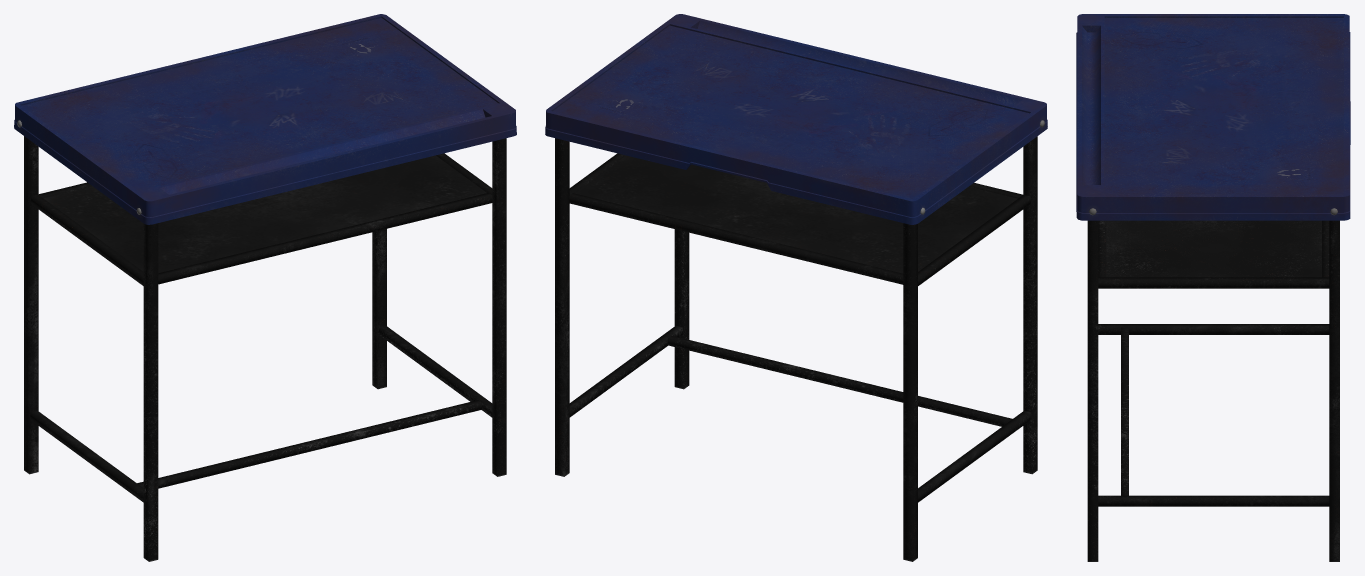
Rendered from TableSchool.fbx.
The picture shows the model from 3 angles, left to right: view 1: azimuth 30°, elevation 25°; view 2: azimuth 150°, elevation 25°; view 3: azimuth 270°, elevation 25°; orthographic projection.
Visible parts, largest first — view 1: TableSchool; view 2: TableSchool; view 3: TableSchool.
Part boxes in pixels (x1=…): TableSchool: x1=14, y1=14, x2=516, y2=561; TableSchool: x1=545, y1=14, x2=1047, y2=561; TableSchool: x1=1076, y1=14, x2=1350, y2=561.
Size of the model in its own units: 93.32 by 86.64 by 58.43.
1 material, 1 textured.
